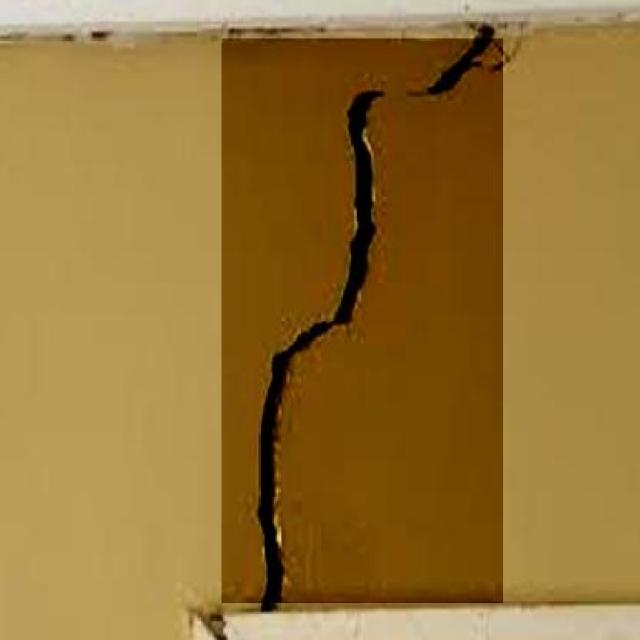Crack: (241, 24, 501, 596)
